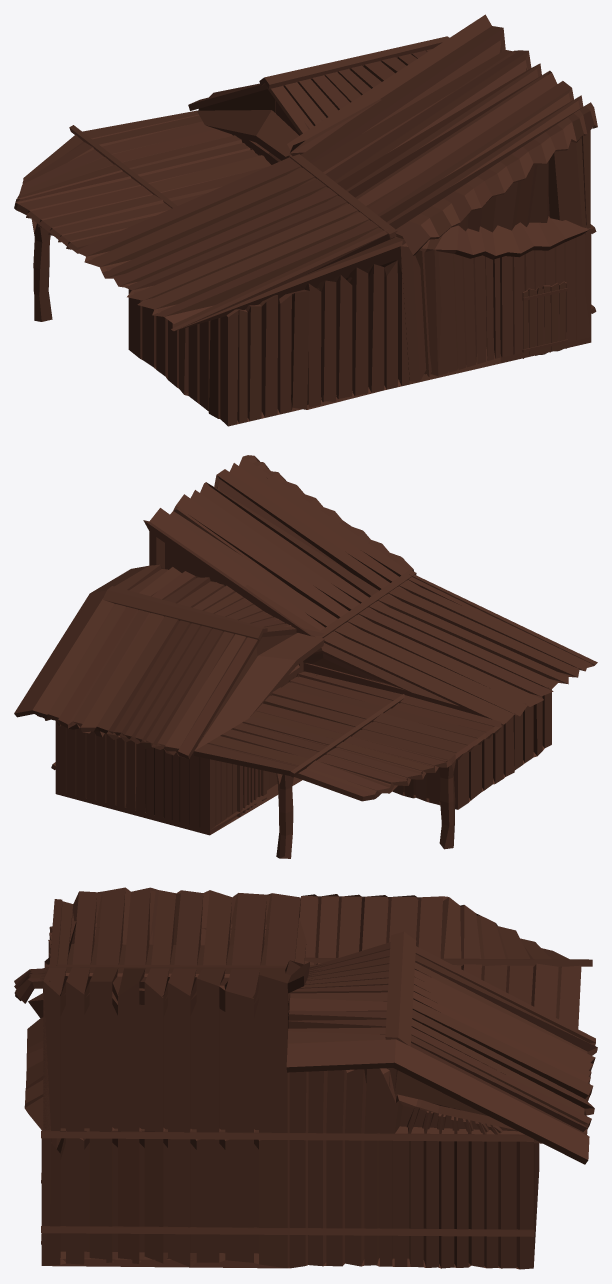
Rendered from 3D_house2fbx.fbx.
3 views of the same model, one above another, from view 1: azimuth 30°, elevation 25°; view 2: azimuth 150°, elevation 25°; view 3: azimuth 270°, elevation 25° (orthographic). The views are drawn at different scales.
Visible parts, largest first — view 1: Plane, Plane.002, Cube.009, Plane.001; view 2: Plane, Plane.002, Plane.001, Cube.084; view 3: Plane, Plane.002, Plane.004, Plane.003, Plane.001.
Boxes of the visible parts, left/top/right/bottom form: Plane: left=14, top=14, right=597, bottom=426; Plane.002: left=259, top=36, right=449, bottom=238; Cube.009: left=522, top=281, right=567, bottom=358; Plane.001: left=69, top=125, right=177, bottom=208; Plane: left=14, top=455, right=597, bottom=858; Plane.002: left=103, top=570, right=416, bottom=640; Plane.001: left=289, top=694, right=404, bottom=777; Cube.084: left=241, top=766, right=260, bottom=814; Plane: left=14, top=887, right=597, bottom=1269; Plane.002: left=45, top=931, right=416, bottom=1046; Plane.004: left=41, top=1226, right=534, bottom=1236; Plane.003: left=41, top=1131, right=534, bottom=1141; Plane.001: left=305, top=957, right=592, bottom=966.
Size of the model in its own units: 1506 by 796 by 1418.
